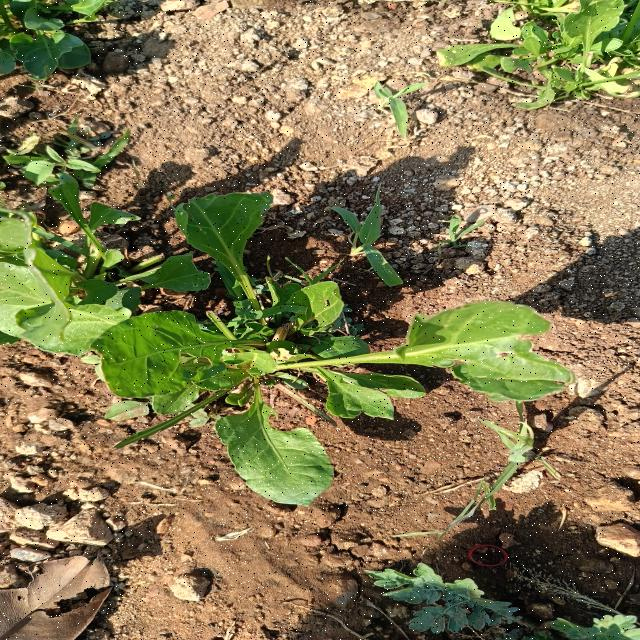half-leaf: (134, 255, 225, 305)
leaves: (284, 301, 581, 404), (199, 377, 352, 514), (1, 208, 136, 356), (159, 192, 289, 313), (84, 307, 253, 399), (295, 361, 400, 433), (256, 279, 354, 339), (348, 367, 437, 405), (145, 371, 217, 416)
